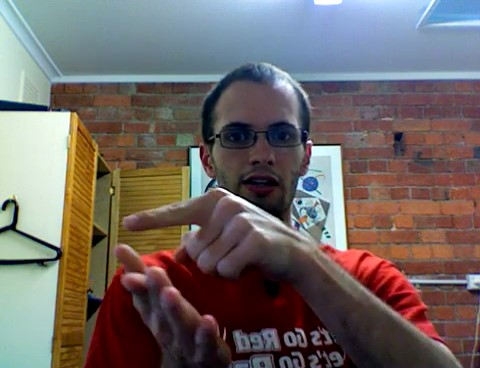I: (103, 180, 313, 364)
